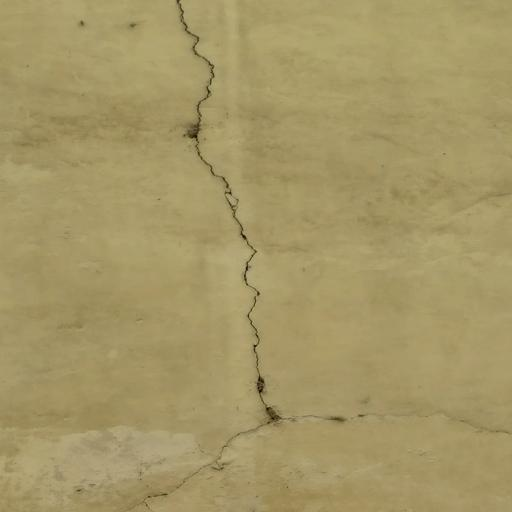minor_crack: (129, 0, 511, 508)
